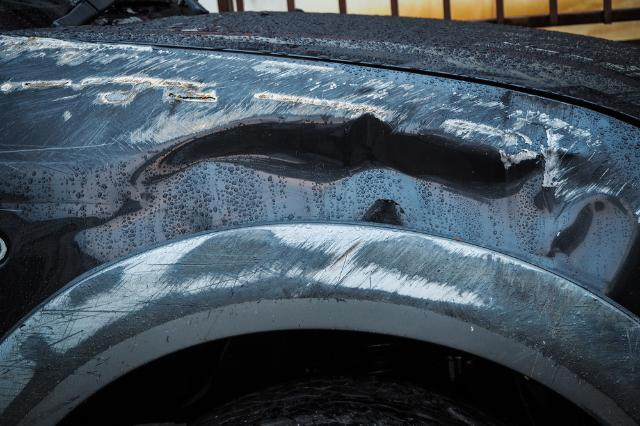dent: (141, 114, 637, 289)
scratch: (0, 220, 640, 426), (0, 34, 640, 218)
